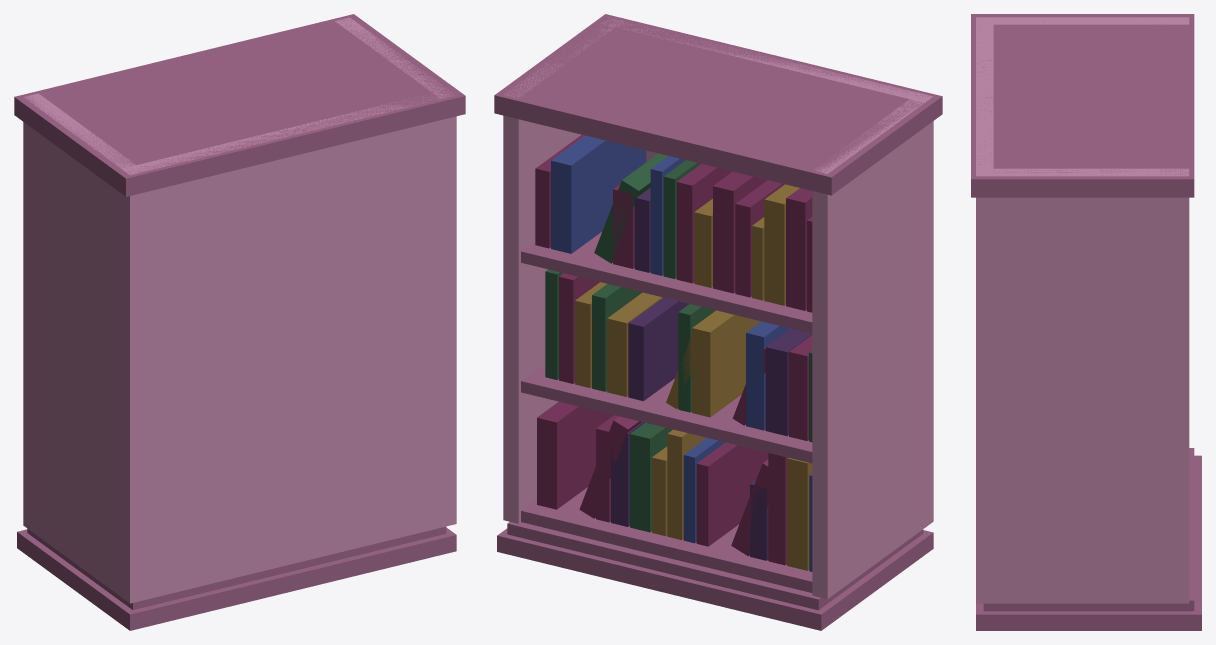
File: pink_dungeon_bookcase_v0.glb
3 renders of one model, left to right at view 1: azimuth 30°, elevation 25°; view 2: azimuth 150°, elevation 25°; view 3: azimuth 270°, elevation 25°, orthographic.
Visible parts, largest first — view 1: pink_dungeon_bookcase_v0; view 2: pink_dungeon_bookcase_v0; view 3: pink_dungeon_bookcase_v0.
Boxes of the visible parts, left/top/right/bottom form: pink_dungeon_bookcase_v0: left=14, top=14, right=465, bottom=630; pink_dungeon_bookcase_v0: left=494, top=14, right=942, bottom=630; pink_dungeon_bookcase_v0: left=971, top=14, right=1201, bottom=630.
Bounding box in the file's own units: 1.56 × 2 × 0.92.
